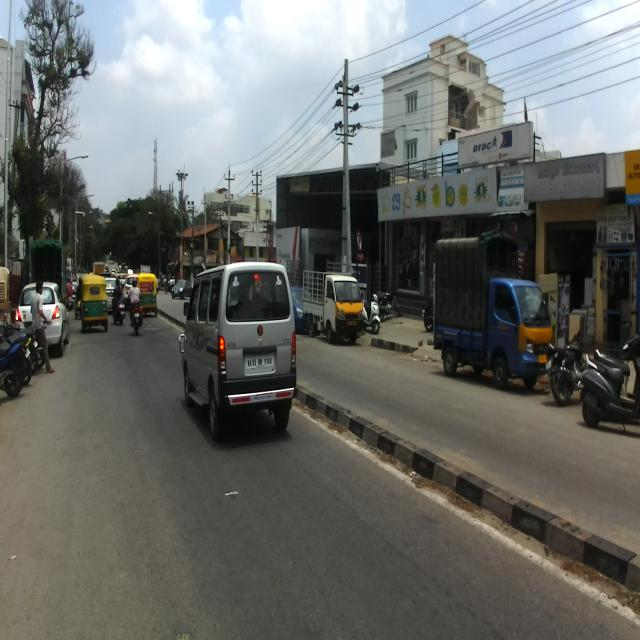auto ahead at: (79, 274, 111, 334)
car ahead at: (180, 266, 300, 442)
truck ahead at: (571, 337, 640, 440)
